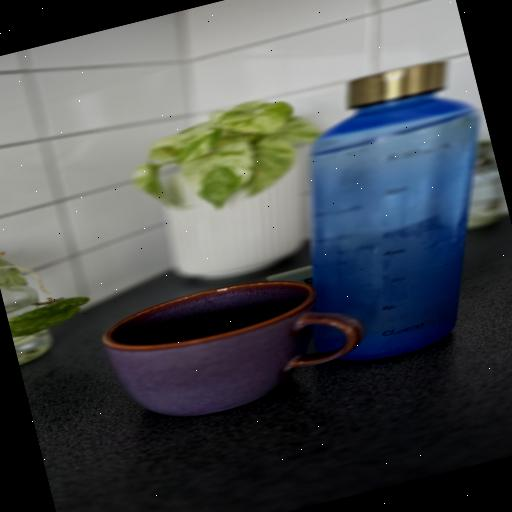bottle: (304, 29, 512, 402)
